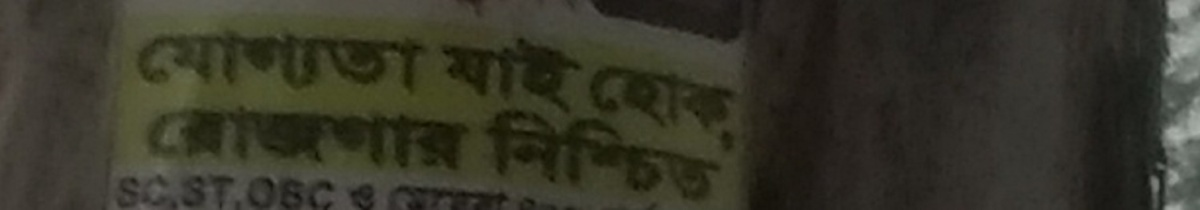text: (497, 102, 512, 210), (513, 102, 528, 210), (529, 102, 544, 210), (545, 102, 560, 210), (561, 102, 576, 210), (577, 102, 592, 210), (593, 102, 608, 210), (609, 102, 624, 210), (625, 102, 640, 210), (641, 102, 656, 210), (657, 102, 672, 210), (673, 102, 688, 210), (689, 102, 704, 210), (705, 102, 720, 210), (593, 59, 608, 159), (609, 59, 624, 159), (625, 59, 640, 159), (641, 59, 656, 159), (657, 59, 672, 159), (673, 59, 688, 159), (689, 59, 704, 159), (705, 59, 720, 159), (721, 59, 736, 159), (449, 32, 464, 125), (465, 32, 480, 125), (481, 32, 496, 125), (497, 32, 512, 125), (513, 32, 528, 125), (529, 32, 544, 125), (545, 32, 560, 125), (561, 32, 576, 125), (145, 20, 160, 106), (161, 20, 176, 106), (177, 20, 192, 106), (193, 20, 208, 106), (209, 20, 224, 106), (225, 20, 240, 106), (241, 20, 256, 106), (257, 20, 272, 106), (273, 20, 288, 106), (289, 20, 304, 106), (305, 20, 320, 106), (321, 20, 336, 106), (337, 20, 352, 106), (353, 20, 368, 106), (369, 20, 384, 106), (385, 20, 400, 106), (401, 20, 416, 106), (417, 20, 432, 106), (145, 97, 160, 178), (161, 97, 176, 178), (177, 97, 192, 178), (193, 97, 208, 178), (209, 97, 224, 178), (225, 97, 240, 178), (241, 97, 256, 178), (257, 97, 272, 178), (273, 97, 288, 178), (289, 97, 304, 178), (305, 97, 320, 178), (321, 97, 336, 178), (337, 97, 352, 178), (353, 97, 368, 178), (369, 97, 384, 178), (385, 97, 400, 178), (401, 97, 416, 178), (417, 97, 432, 178), (433, 97, 448, 178), (449, 97, 464, 178), (721, 102, 732, 210), (577, 32, 589, 125), (129, 166, 144, 210), (145, 166, 160, 210), (161, 166, 176, 210), (177, 166, 192, 210), (193, 166, 208, 210), (209, 166, 224, 210), (225, 166, 240, 210), (241, 166, 256, 210), (257, 166, 272, 210), (273, 166, 288, 210), (289, 166, 304, 210), (305, 166, 320, 210), (321, 166, 336, 210), (465, 97, 473, 178), (117, 166, 128, 210), (353, 180, 368, 210), (492, 102, 496, 210), (401, 182, 416, 208), (417, 182, 432, 208), (433, 182, 448, 208), (449, 182, 464, 208), (465, 182, 480, 208), (481, 182, 496, 208), (497, 182, 512, 208), (513, 182, 528, 208), (529, 182, 544, 208), (545, 182, 560, 208), (444, 32, 448, 125), (140, 20, 144, 106), (388, 182, 400, 208), (737, 59, 740, 159), (369, 180, 379, 210), (561, 182, 570, 208), (591, 59, 592, 159), (349, 180, 352, 210), (337, 166, 338, 210)
